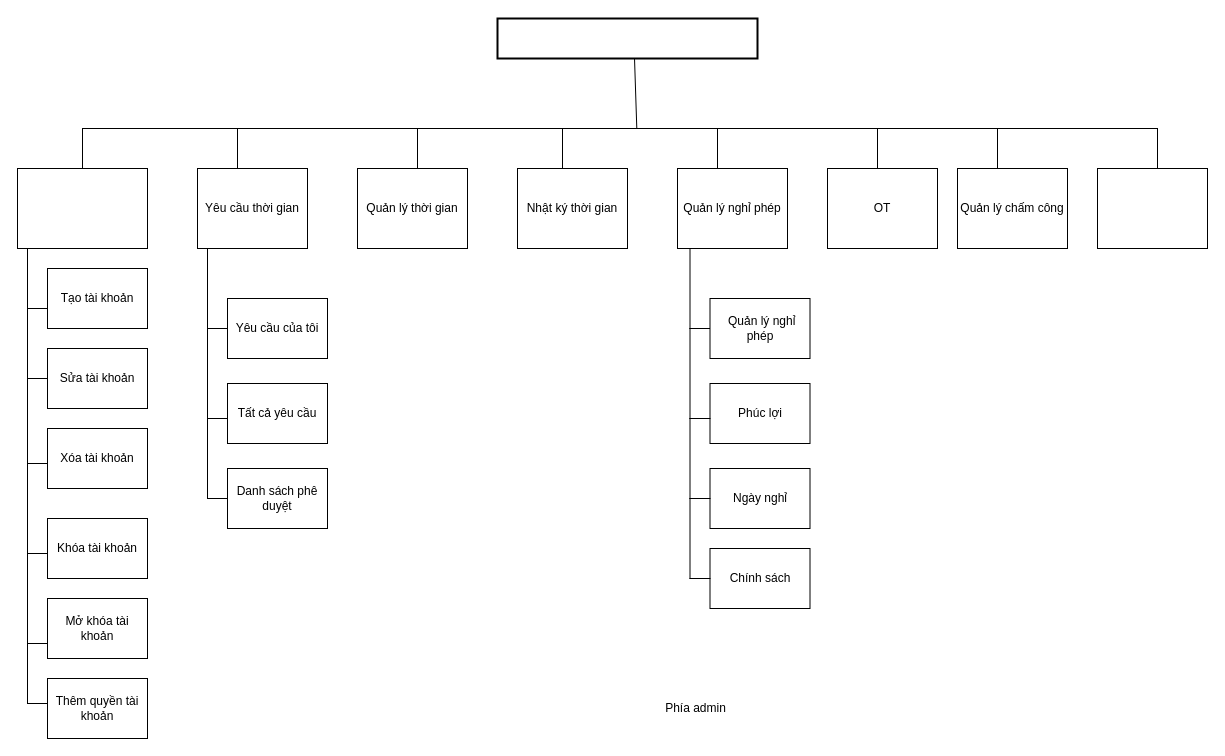
Image size: 1225x756. Some labels were removed from this diagram. The centre of each missing label's shape, as x and y in pixels:
Hệ thống timesheet: pixel 627 38
Quản lý hóa đơn: pixel 1152 208
Quản lý tài khoản: pixel 82 208
